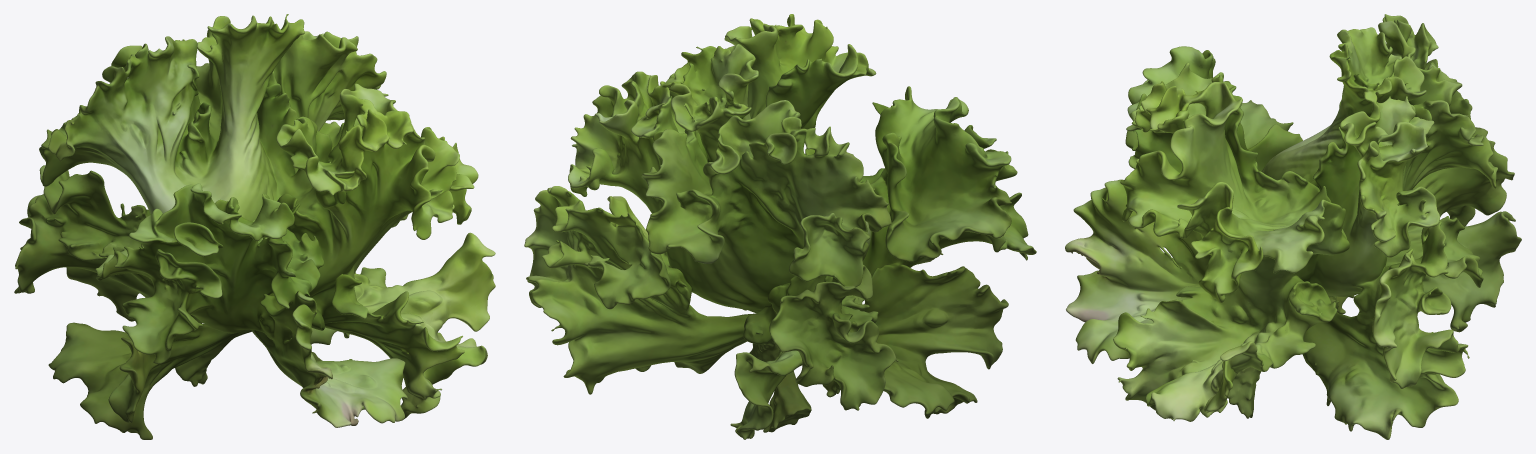
The model's file is olmetie_maturity.glb.
The picture shows the model from 3 angles, left to right: view 1: azimuth 30°, elevation 25°; view 2: azimuth 150°, elevation 25°; view 3: azimuth 270°, elevation 25°; orthographic projection.
Parts seen in each view (by area): view 1: tripo_node_6c4f5c39-ee55-43fe-845f-8988b9823c77; view 2: tripo_node_6c4f5c39-ee55-43fe-845f-8988b9823c77; view 3: tripo_node_6c4f5c39-ee55-43fe-845f-8988b9823c77.
Boxes of the visible parts, left/top/right/bottom form: tripo_node_6c4f5c39-ee55-43fe-845f-8988b9823c77: left=14, top=14, right=495, bottom=439; tripo_node_6c4f5c39-ee55-43fe-845f-8988b9823c77: left=524, top=14, right=1036, bottom=439; tripo_node_6c4f5c39-ee55-43fe-845f-8988b9823c77: left=1065, top=14, right=1521, bottom=439.
Size of the model in its own units: 1 by 0.897 by 0.9865.
1 material, 1 textured.
